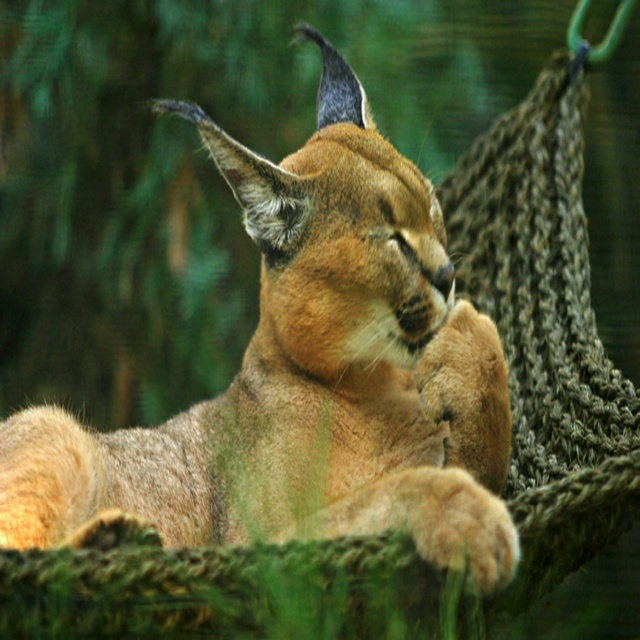Lynx: (0, 23, 527, 594)
